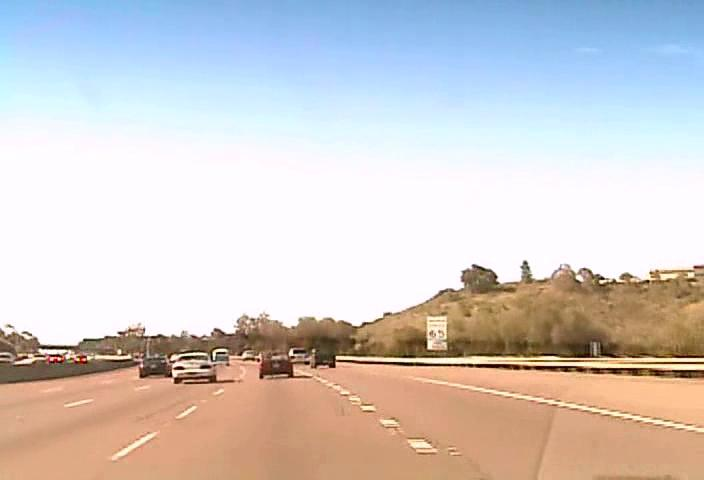speedLimit65: (426, 317, 447, 340)
